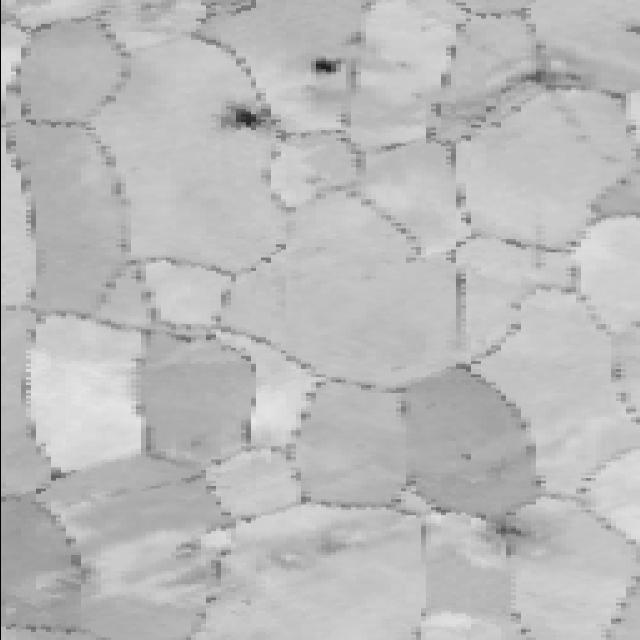good_void: (455, 495, 547, 566), (500, 52, 593, 98), (218, 100, 284, 135), (303, 51, 359, 79)
